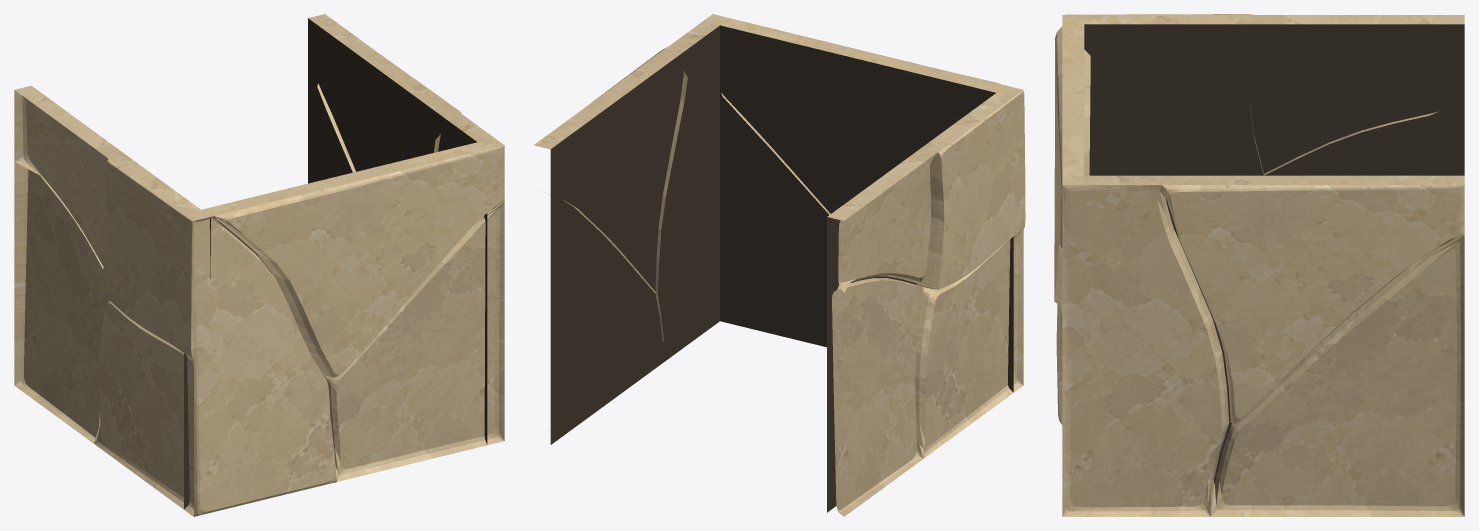
Rendered from ground_end_05.glb.
The picture shows the model from 3 angles, left to right: view 1: azimuth 30°, elevation 25°; view 2: azimuth 150°, elevation 25°; view 3: azimuth 270°, elevation 25°; orthographic projection. The views are drawn at different scales.
Visible parts, largest first — view 1: GroundEnd05_Body; view 2: GroundEnd05_Body; view 3: GroundEnd05_Body.
Boxes of the visible parts, <box> form: GroundEnd05_Body: <box>14,14,504,516</box>; GroundEnd05_Body: <box>534,14,1025,516</box>; GroundEnd05_Body: <box>1054,14,1464,516</box>.
Bounding box in the file's own units: 1.04 × 0.91 × 1.02.
Materials: 12 (11 with a texture image).
